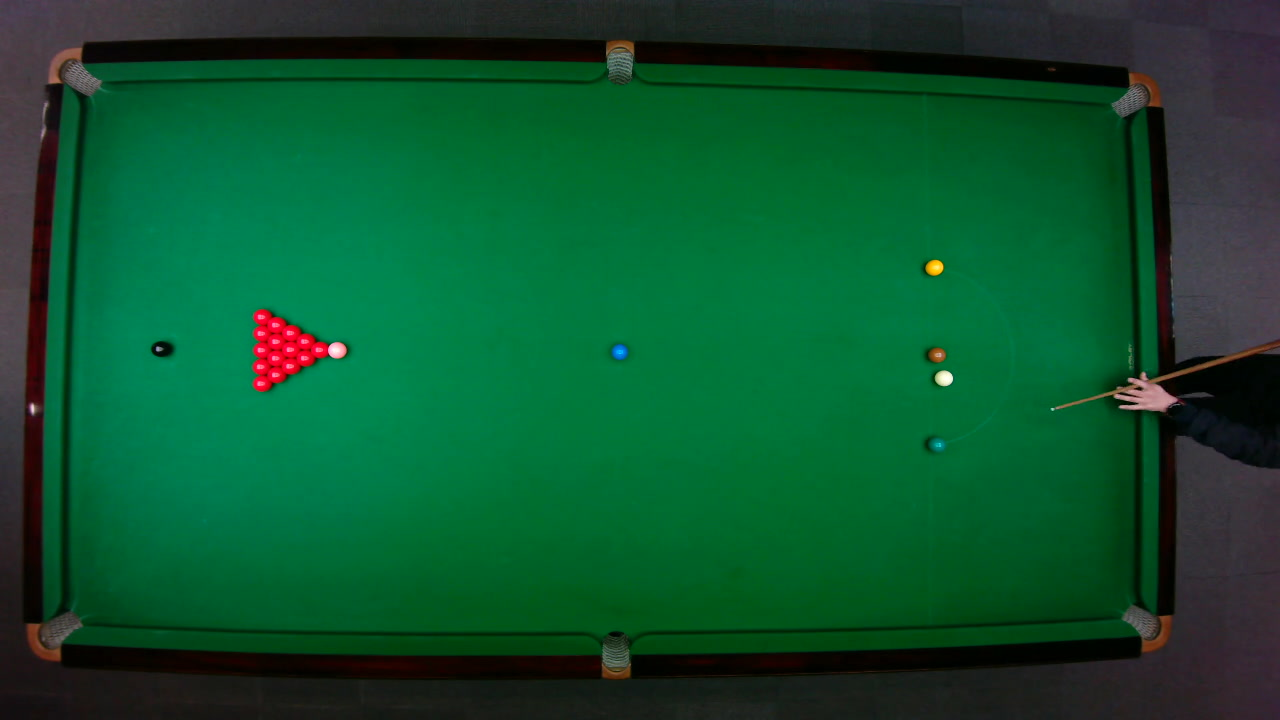bag: (24, 609, 83, 661), (46, 46, 101, 96), (1119, 603, 1171, 652), (1108, 71, 1161, 118), (601, 629, 629, 680), (605, 38, 633, 85)
black: (149, 339, 171, 357)
blue: (610, 342, 628, 360)
brown: (926, 346, 946, 362)
cue: (1050, 339, 1280, 414)
green: (926, 435, 946, 452)
pink: (327, 341, 348, 360)
red: (251, 308, 274, 326), (281, 324, 303, 342), (251, 375, 273, 393), (282, 357, 302, 376), (267, 366, 288, 384), (311, 341, 331, 359), (296, 332, 316, 350), (266, 333, 286, 351), (251, 342, 272, 359), (267, 316, 288, 333), (251, 326, 273, 342), (296, 350, 316, 367), (281, 342, 301, 359), (251, 359, 272, 375), (267, 350, 286, 367)
white: (932, 368, 953, 387)
yellow: (923, 258, 944, 276)
zone: (926, 266, 1013, 444)
